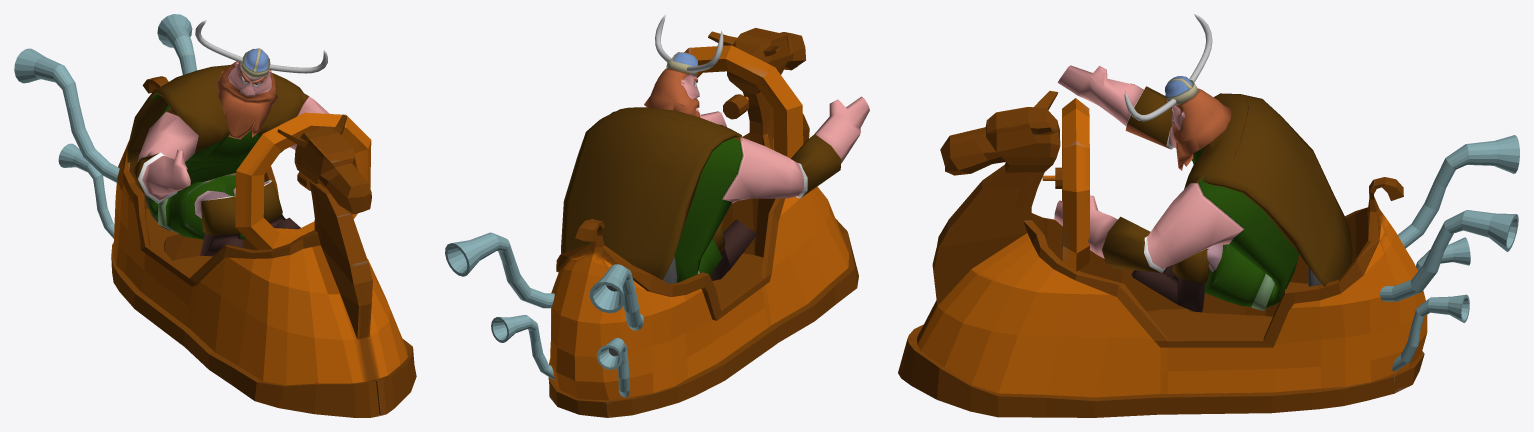
File: vikingoVacile_000441.obj
3 views of the same model, side by side, from view 1: azimuth 30°, elevation 25°; view 2: azimuth 150°, elevation 25°; view 3: azimuth 270°, elevation 25° (orthographic). The views are drawn at different scales.
Visible parts, largest first — view 1: kartVikingo, Vikingo; view 2: kartVikingo, Vikingo; view 3: kartVikingo, Vikingo.
Part boxes in pixels (bbox=[...]): kartVikingo: bbox=[14, 14, 416, 417]; Vikingo: bbox=[127, 20, 329, 256]; kartVikingo: bbox=[445, 28, 858, 417]; Vikingo: bbox=[561, 14, 869, 282]; kartVikingo: bbox=[898, 91, 1519, 417]; Vikingo: bbox=[1054, 14, 1352, 312].
Bounding box in the file's own units: 4.79 × 6.23 × 10.31.
2 materials, 2 textured.
